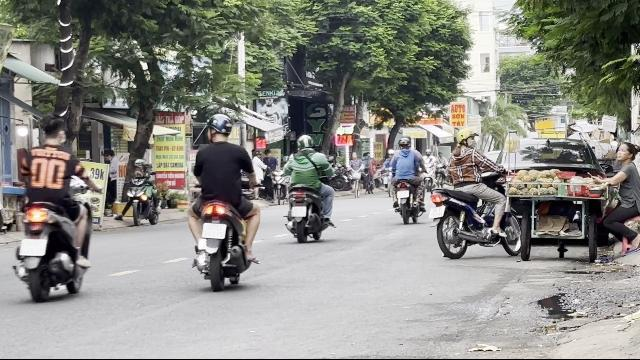helmet: (206, 114, 234, 142), (456, 126, 478, 148), (296, 134, 314, 150)
licenseplate: (19, 240, 46, 256), (202, 223, 226, 239), (428, 206, 444, 218), (292, 207, 306, 217)
motorcyclist: (13, 115, 95, 301), (184, 111, 262, 289), (431, 124, 514, 260), (279, 134, 335, 243)
nohelmet: (40, 116, 66, 148)
